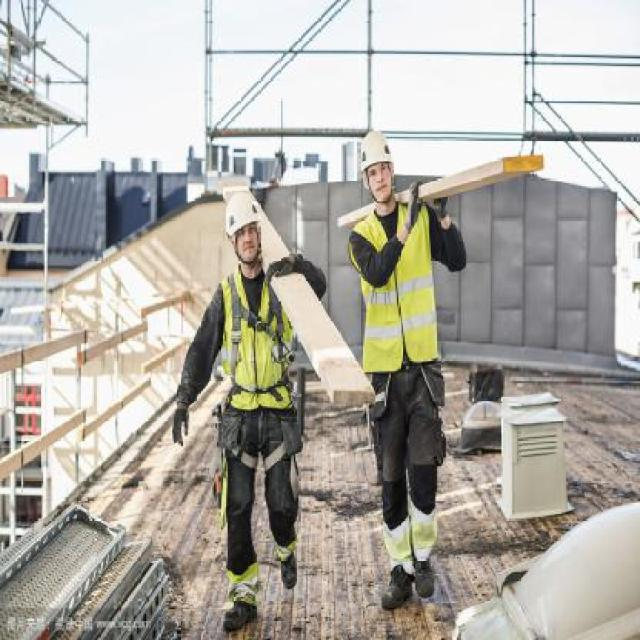Gloves: (402, 176, 422, 233), (262, 257, 296, 287), (172, 402, 191, 448), (432, 194, 452, 220)
Vest: (359, 203, 439, 354), (223, 276, 299, 415)
helmet: (223, 194, 266, 223), (361, 129, 396, 163)
person: (350, 133, 449, 611), (204, 191, 304, 634)
